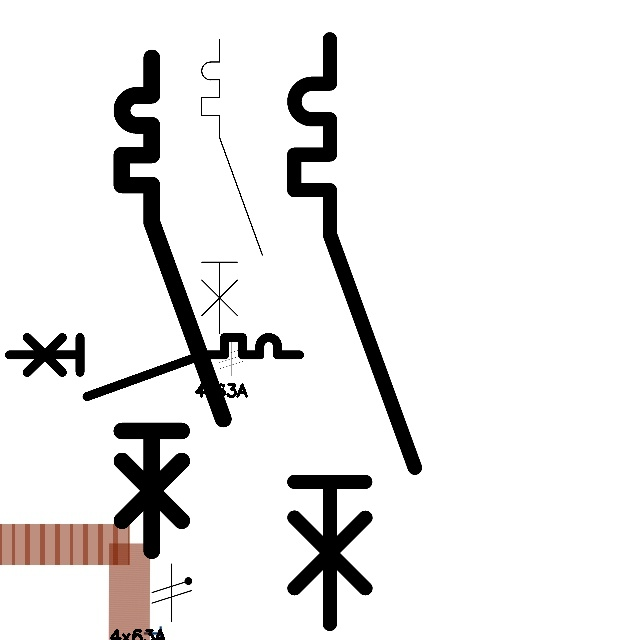interruptor_termomagnetico: (279, 24, 429, 639), (109, 45, 236, 563), (194, 32, 269, 341), (2, 330, 307, 404)
